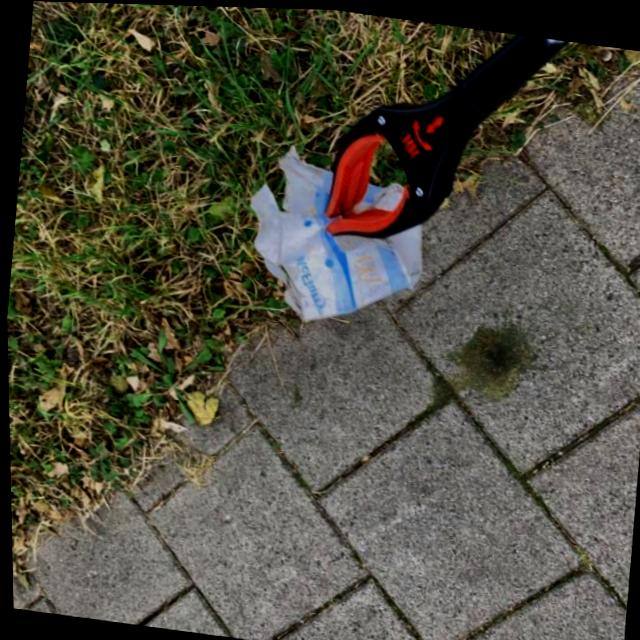Paper: (233, 136, 435, 337)
